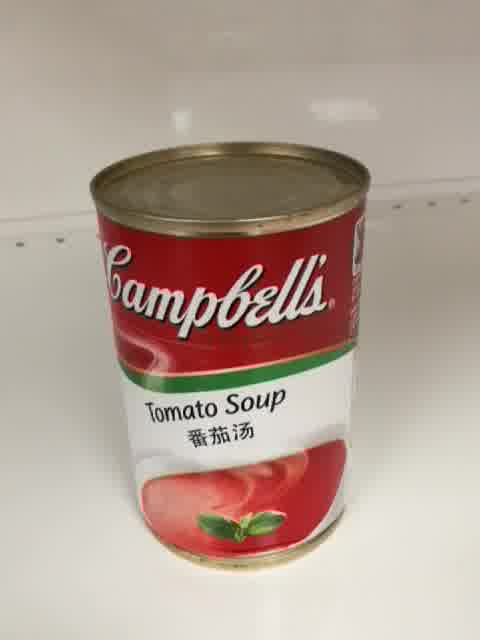tomatosoup: (86, 138, 371, 572)
